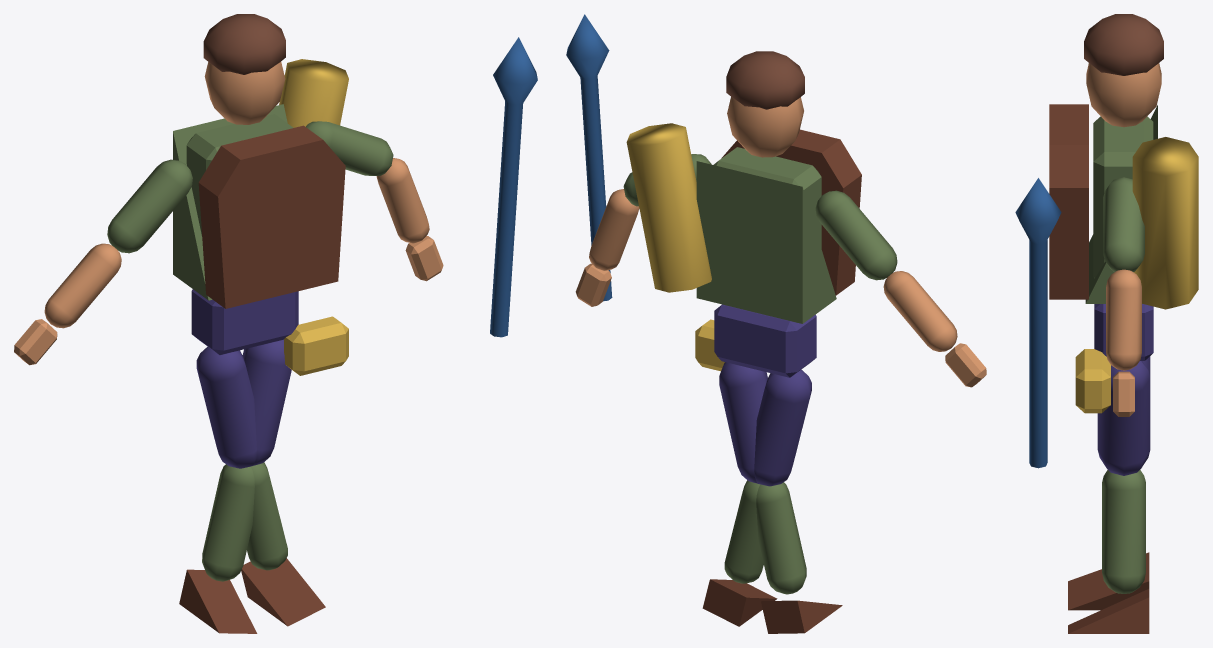
The model's file is adventurer.rustic.glb.
The picture shows the model from 3 angles, left to right: view 1: azimuth 30°, elevation 25°; view 2: azimuth 150°, elevation 25°; view 3: azimuth 270°, elevation 25°; orthographic projection. The views are drawn at different scales.
Parts seen in each view (by area): view 1: accessory.body, accessory.main-hand, thigh.left, pelvis, shin.right, upper-arm.left, hair, accessory.back, thigh.right, tunic, head, forearm.left (+9 smaller); view 2: tunic, accessory.back, pelvis, thigh.left, accessory.main-hand, accessory.body, shin.right, upper-arm.left, hair, thigh.right, head, forearm.left (+8 smaller); view 3: accessory.back, accessory.body, accessory.main-hand, shin.left, hair, thigh.right, torso, head, forearm.right, upper-arm.right, foot.left, accessory.waist (+4 smaller).
Boxes of the visible parts, bbox=[...] form: accessory.body: bbox=[198, 125, 345, 308]; accessory.main-hand: bbox=[490, 37, 537, 337]; thigh.left: bbox=[196, 346, 256, 468]; pelvis: bbox=[191, 289, 298, 354]; shin.right: bbox=[202, 464, 254, 581]; upper-arm.left: bbox=[107, 159, 192, 253]; hair: bbox=[203, 14, 285, 74]; accessory.back: bbox=[279, 59, 348, 127]; thigh.right: bbox=[242, 339, 291, 465]; tunic: bbox=[173, 104, 287, 300]; head: bbox=[204, 61, 285, 124]; forearm.left: bbox=[44, 243, 121, 328]; tunic: bbox=[696, 161, 836, 323]; accessory.back: bbox=[626, 123, 711, 292]; pelvis: bbox=[714, 304, 816, 377]; thigh.left: bbox=[754, 369, 811, 486]; accessory.main-hand: bbox=[566, 14, 612, 301]; accessory.body: bbox=[721, 129, 861, 295]; shin.right: bbox=[756, 482, 806, 594]; upper-arm.left: bbox=[815, 190, 897, 280]; hair: bbox=[726, 51, 804, 109]; thigh.right: bbox=[719, 362, 767, 483]; head: bbox=[727, 97, 803, 157]; forearm.left: bbox=[883, 271, 957, 351]; accessory.back: bbox=[1132, 137, 1198, 309]; accessory.body: bbox=[1049, 104, 1088, 299]; accessory.main-hand: bbox=[1015, 178, 1061, 468]; shin.left: bbox=[1102, 471, 1145, 593]; hair: bbox=[1084, 14, 1163, 75]; thigh.right: bbox=[1097, 361, 1150, 475]; torso: bbox=[1093, 116, 1153, 278]; head: bbox=[1086, 63, 1161, 127]; forearm.right: bbox=[1106, 269, 1141, 370]; upper-arm.right: bbox=[1103, 177, 1144, 272]; foot.left: bbox=[1068, 589, 1149, 633]; accessory.waist: bbox=[1075, 349, 1110, 413].
Bounding box in the file's own units: 2.54 × 3.01 × 0.8353.
